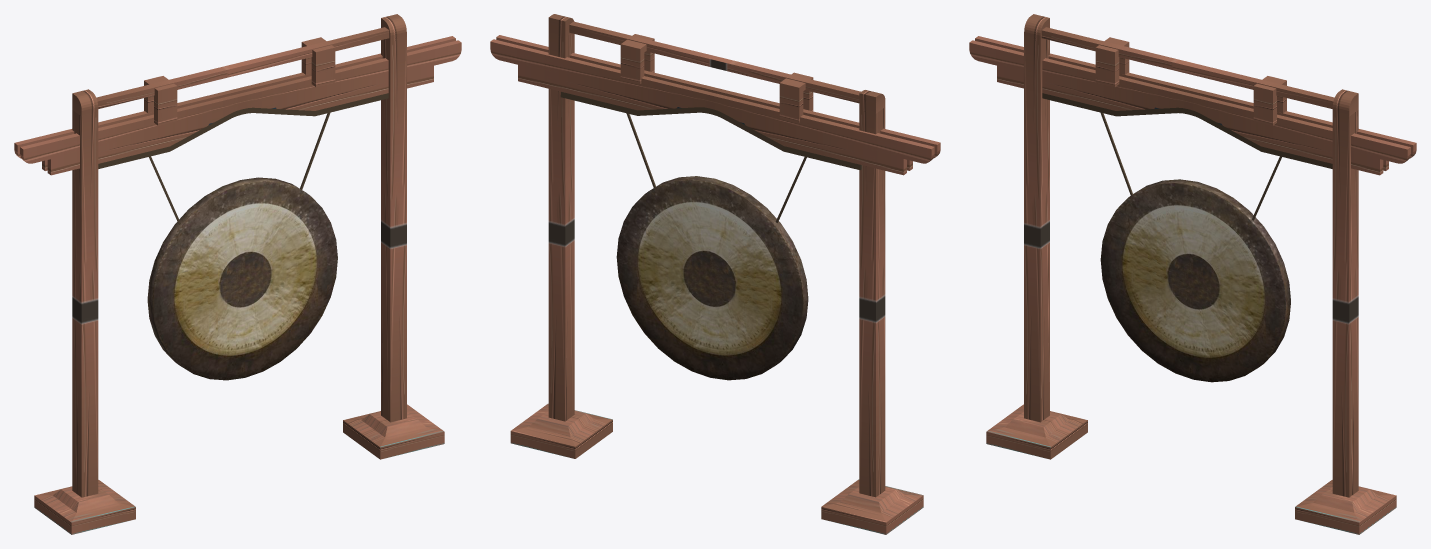
Rendered from gong.fbx.
3 renders of one model, left to right at view 1: azimuth 30°, elevation 25°; view 2: azimuth 150°, elevation 25°; view 3: azimuth 330°, elevation 25°, orthographic.
Parts seen in each view (by area): view 1: GONG_stand, Circle; view 2: GONG_stand, Circle; view 3: GONG_stand, Circle.
Part boxes in pixels (x1,y1,x2,y2): GONG_stand: (14,14,461,534); Circle: (147,112,337,380); GONG_stand: (490,14,940,534); Circle: (616,113,808,380); GONG_stand: (969,14,1416,534); Circle: (1100,112,1290,382).
Bounding box in the file's own units: 201 × 184 × 29.58.
